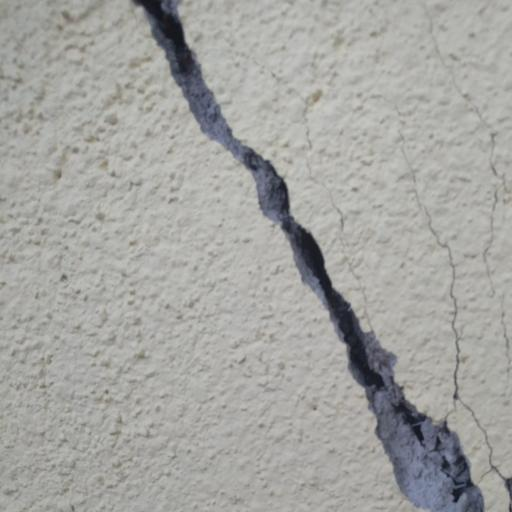major_crack: (129, 0, 489, 512)
